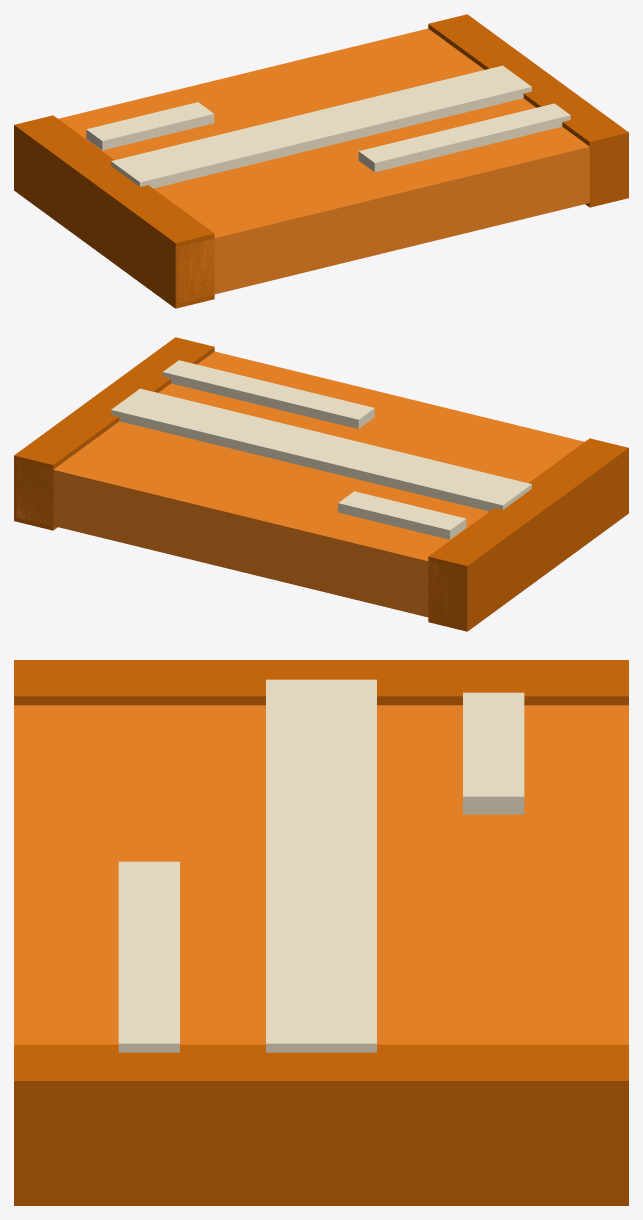
File: ticket.obj
The picture shows the model from 3 angles, top to bottom: view 1: azimuth 30°, elevation 25°; view 2: azimuth 150°, elevation 25°; view 3: azimuth 270°, elevation 25°; orthographic projection. The views are drawn at different scales.
Visible parts, largest first — view 1: ticket; view 2: ticket; view 3: ticket.
Boxes of the visible parts, left/top/right/bottom form: ticket: left=14, top=14, right=628, bottom=308; ticket: left=14, top=337, right=628, bottom=631; ticket: left=14, top=660, right=628, bottom=1205.
Size of the model in its own units: 11 by 1.63 by 6.79.
